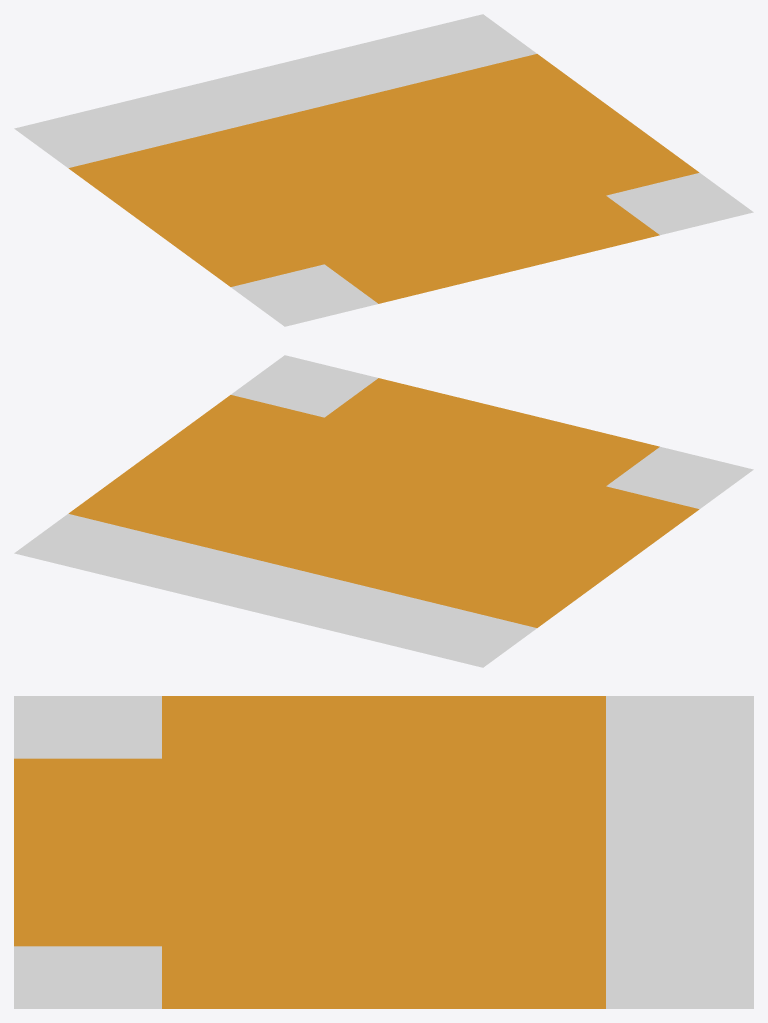
File: Ground_Kreuzung.fbx
3 views of the same model, one above another, from view 1: azimuth 30°, elevation 25°; view 2: azimuth 150°, elevation 25°; view 3: azimuth 270°, elevation 25° (orthographic). The views are drawn at different scales.
Parts seen in each view (by area): view 1: Plane.019; view 2: Plane.019; view 3: Plane.019.
Boxes of the visible parts, x1,y1,x2,y2 form: Plane.019: (14, 14, 753, 326); Plane.019: (14, 355, 753, 667); Plane.019: (14, 696, 753, 1008).
Size of the model in its own units: 200 by 3.26e-05 by 200.
